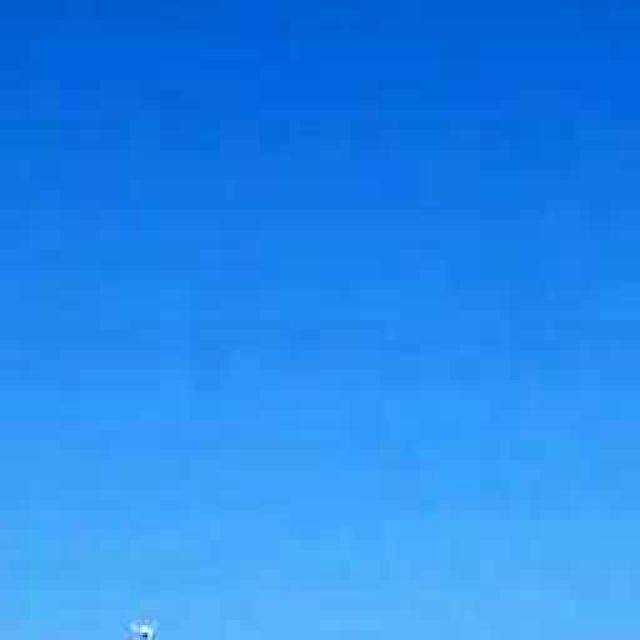bird: (118, 608, 165, 640)
